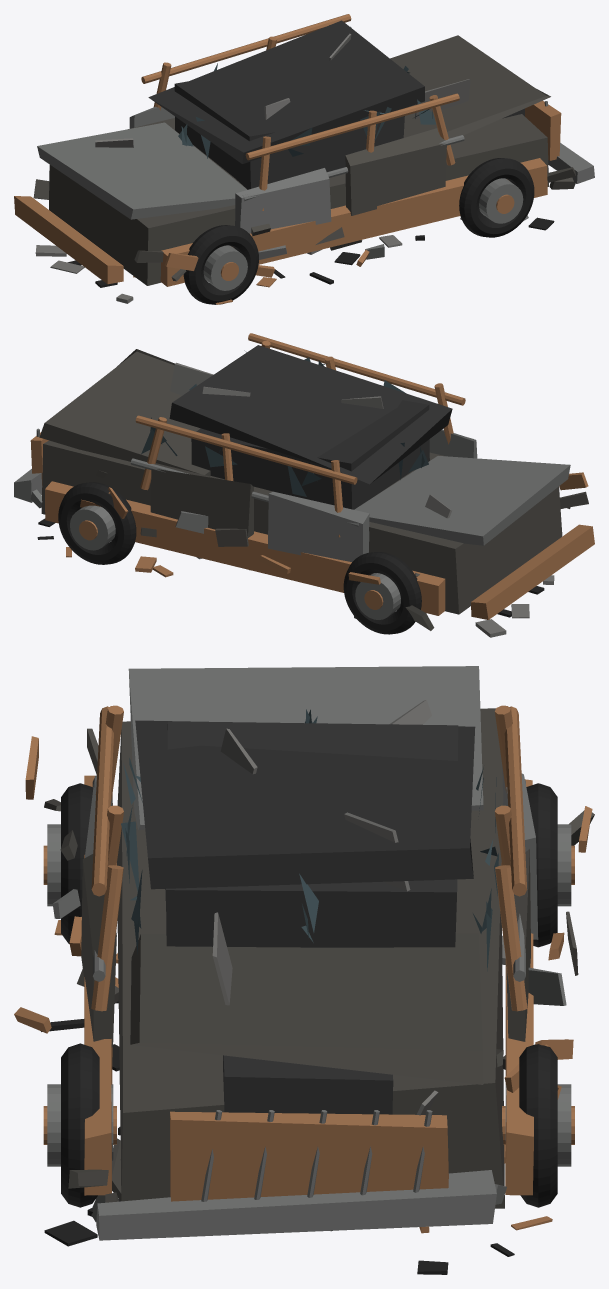
The model's file is burnt_car_wreck.fbx.
The picture shows the model from 3 angles, top to bottom: view 1: azimuth 30°, elevation 25°; view 2: azimuth 150°, elevation 25°; view 3: azimuth 270°, elevation 25°; orthographic projection. The views are drawn at different scales.
Visible parts, largest first — view 1: BurntCarWreckMesh; view 2: BurntCarWreckMesh; view 3: BurntCarWreckMesh.
Part boxes in pixels (<box>): BurntCarWreckMesh: <box>14,14,594,304</box>; BurntCarWreckMesh: <box>14,333,594,637</box>; BurntCarWreckMesh: <box>14,666,594,1274</box>.
Size of the model in its own units: 28510 by 15473 by 9073.
